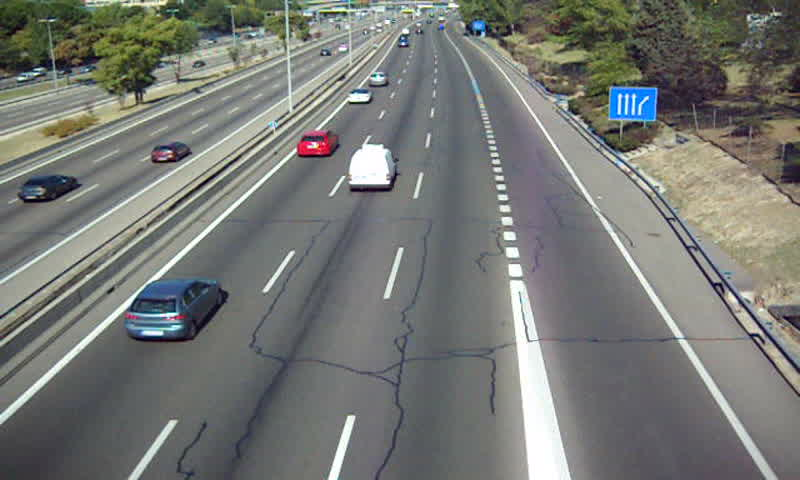car: (126, 280, 222, 342), (298, 130, 338, 155), (346, 89, 373, 104), (367, 71, 387, 87)
van: (348, 145, 398, 189)
